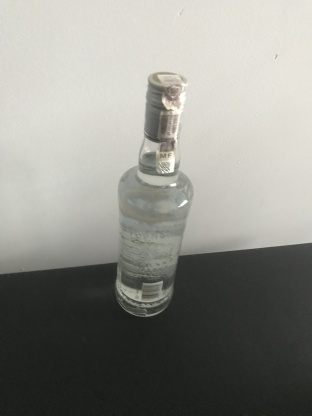nakretka: (142, 70, 189, 144)
